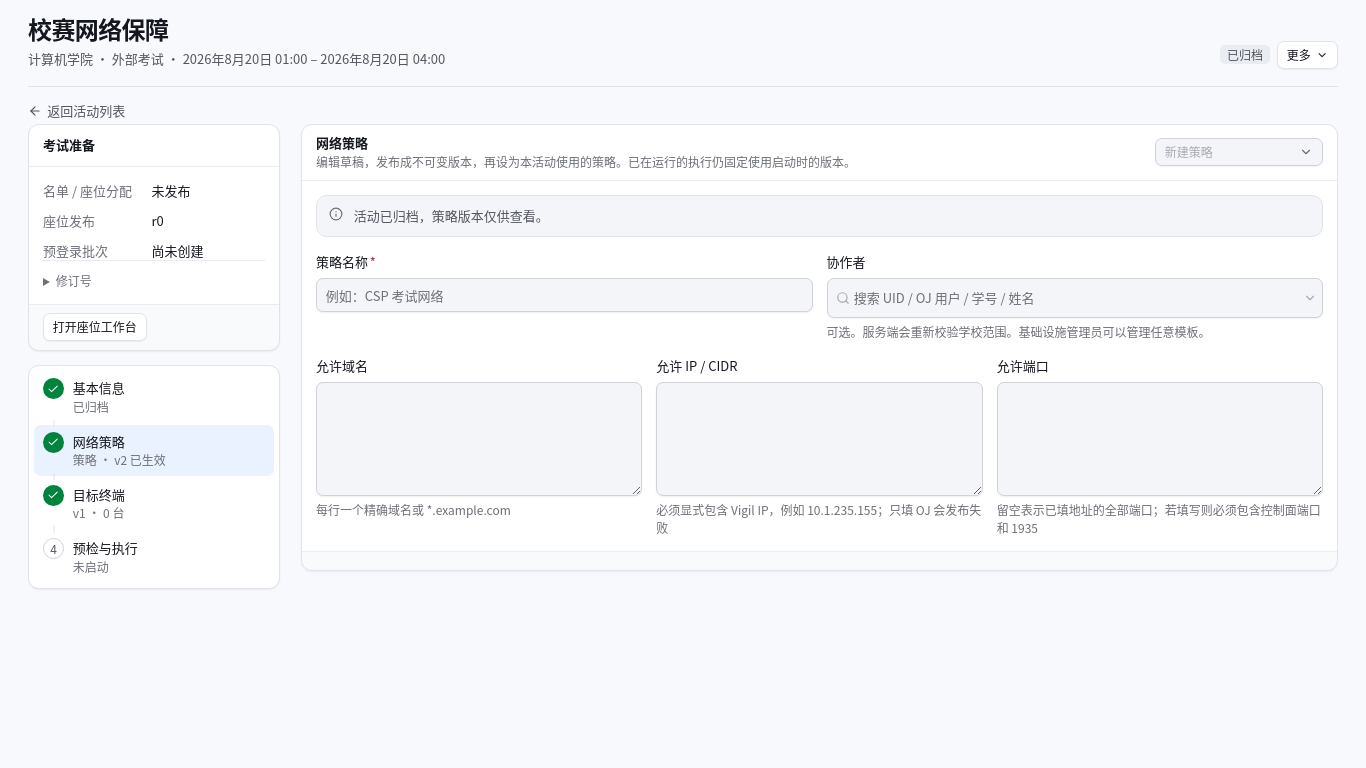
Test: exam event detail shell › 已归档活动禁用归档并让策略只读
The width and height of the screenshot is (1366, 768).
expect the text "活动已归档，策略版本仅供查看。" is shown: met, box [354,206,549,225]
Click the button "更多" at x=1308, y=55, box [1277,41,1338,69]
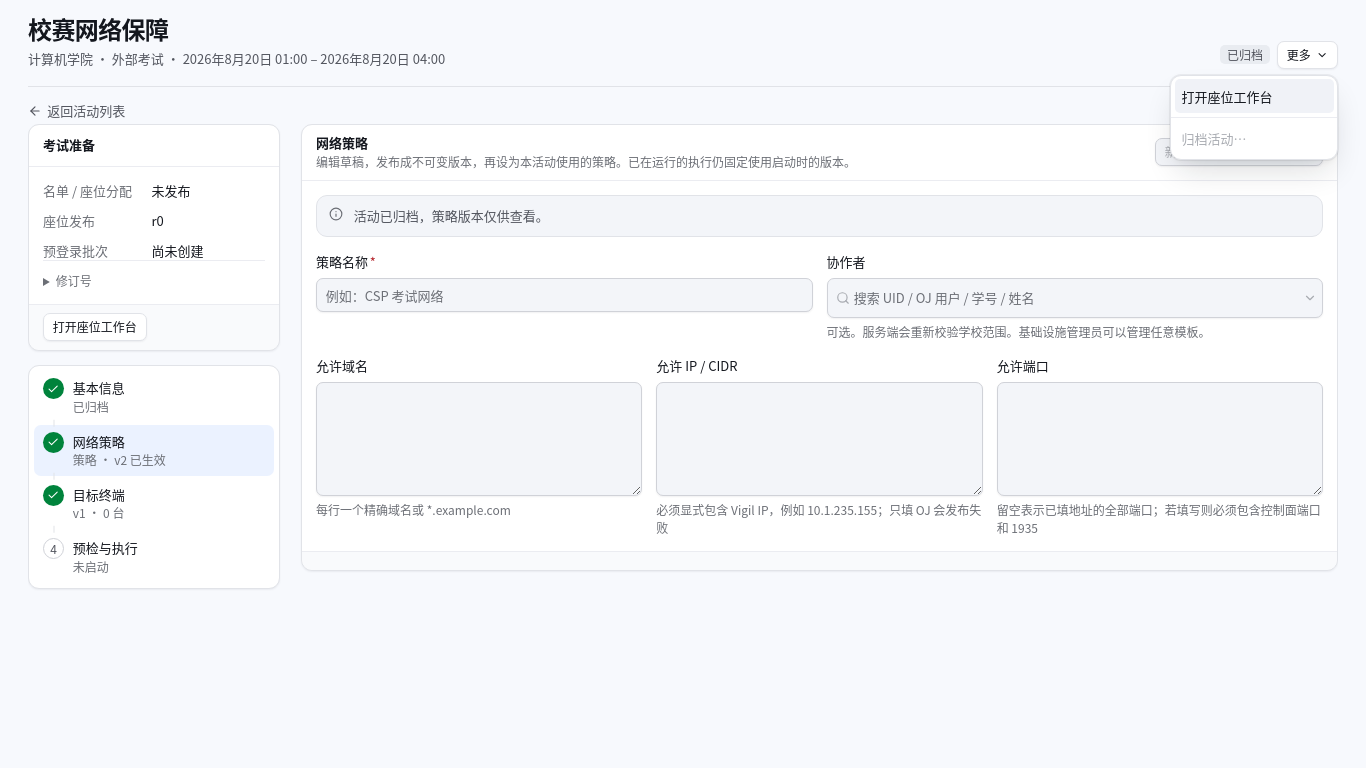
expect the menu item "归档活动…" is disabled: met, box [1174,121,1334,155]
